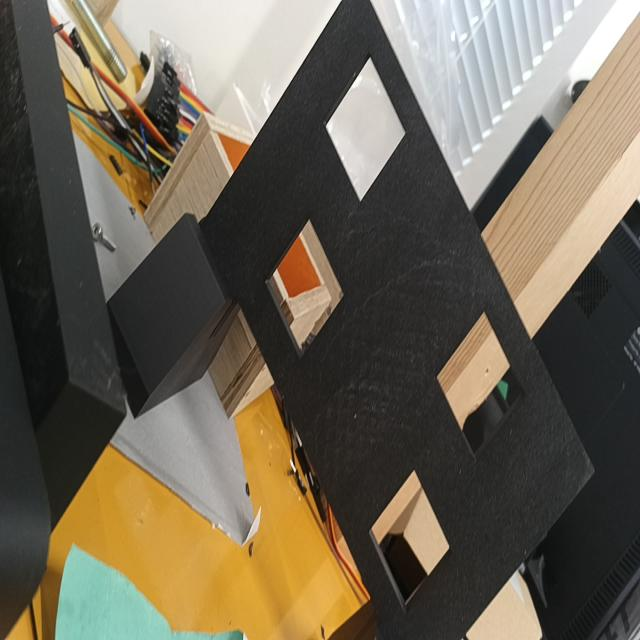Obstacle: (437, 311, 529, 459), (323, 57, 406, 203), (368, 471, 450, 612), (265, 217, 346, 356)
Wall: (200, 0, 592, 639)
